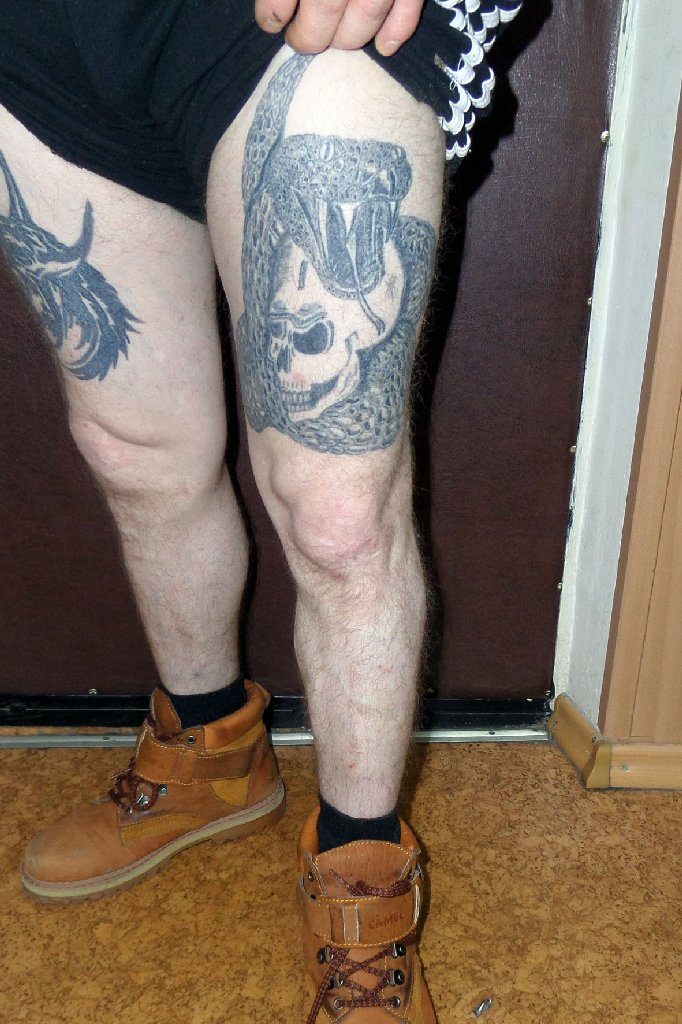tatu7_zmeya: (216, 54, 451, 482)
